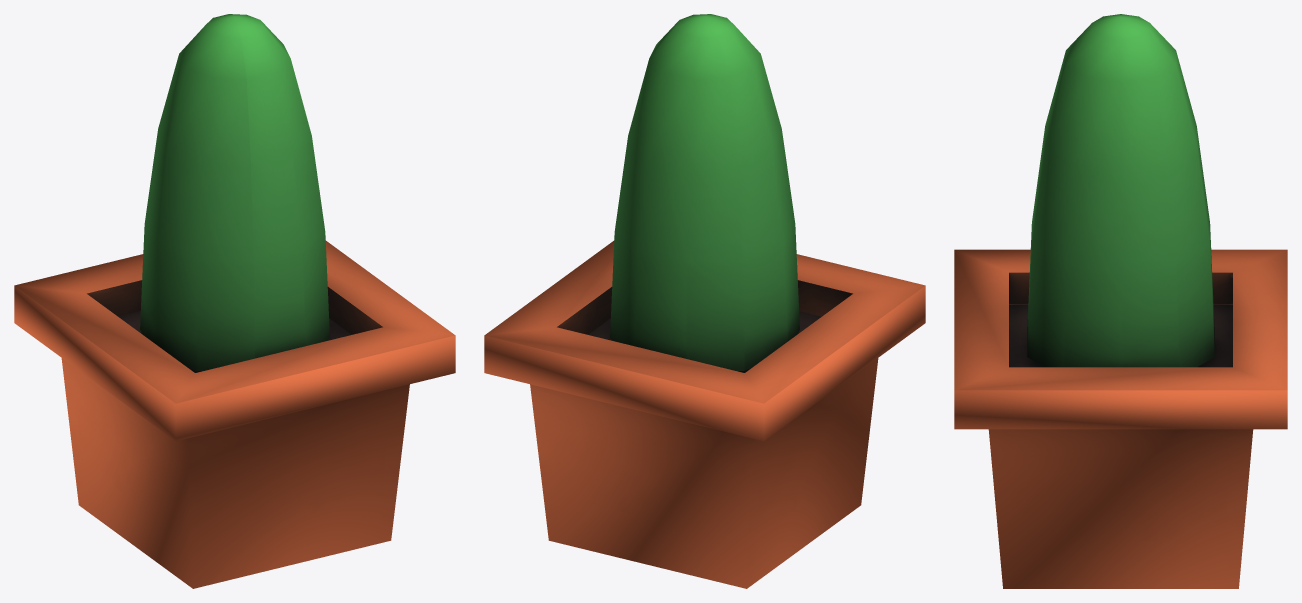
File: Plant.fbx
3 renders of one model, left to right at view 1: azimuth 30°, elevation 25°; view 2: azimuth 150°, elevation 25°; view 3: azimuth 270°, elevation 25°, orthographic. The views are drawn at different scales.
Parts seen in each view (by area): view 1: Plant; view 2: Plant; view 3: Plant.
Boxes of the visible parts, box(x1,y1,x2,y2) form: Plant: box(14, 14, 455, 588); Plant: box(484, 14, 925, 588); Plant: box(954, 14, 1287, 588).
Size of the model in its own units: 99.17 by 171 by 99.17.
